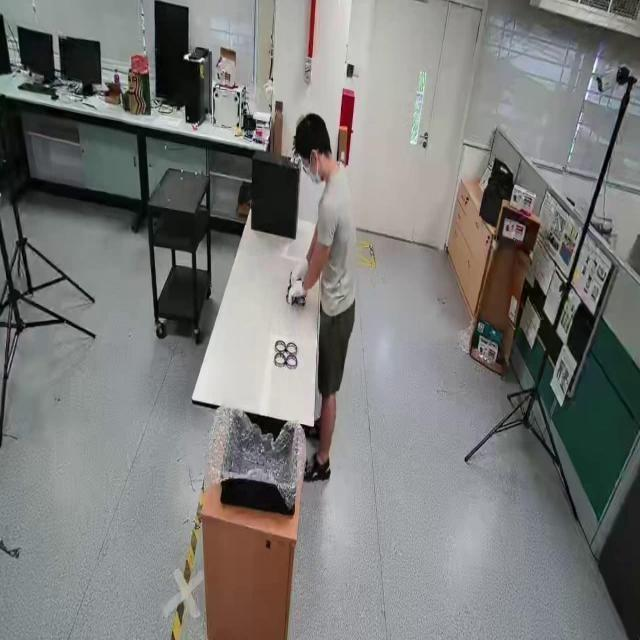box: (200, 410, 304, 638), (469, 199, 541, 376), (470, 320, 503, 366)
